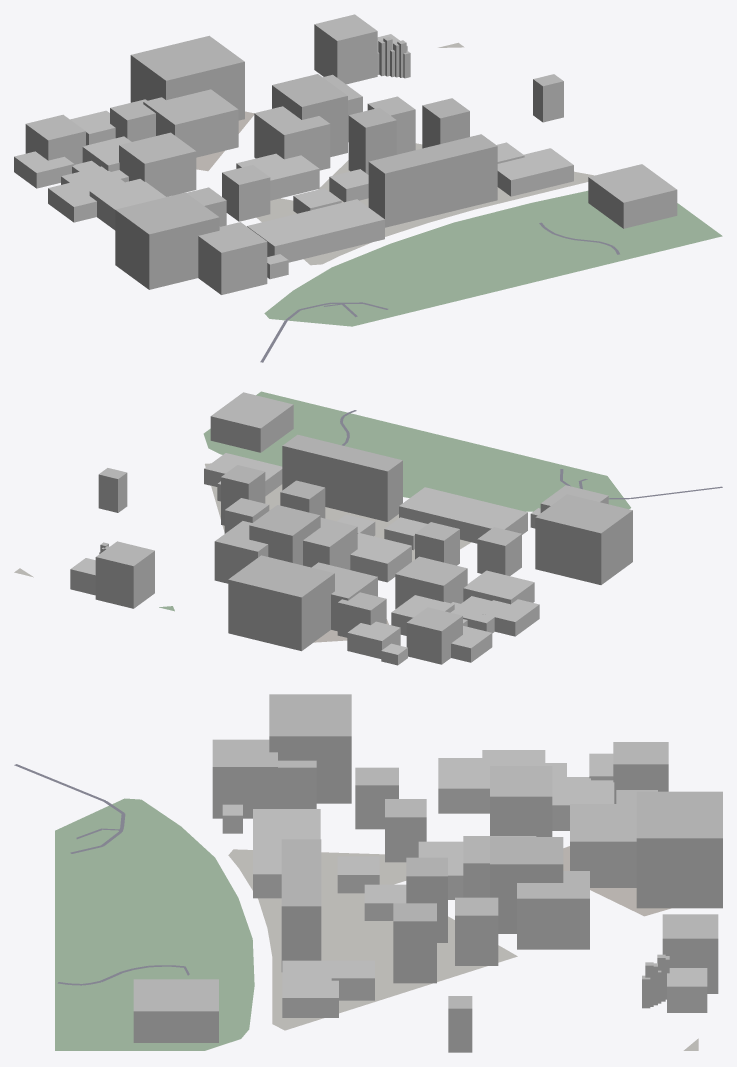
The model's file is 115_114_mid.glb.
The picture shows the model from 3 angles, top to bottom: view 1: azimuth 30°, elevation 25°; view 2: azimuth 150°, elevation 25°; view 3: azimuth 270°, elevation 25°; orthographic projection. The views are drawn at different scales.
Bounding box in the file's own units: 533 × 60.63 × 551.
